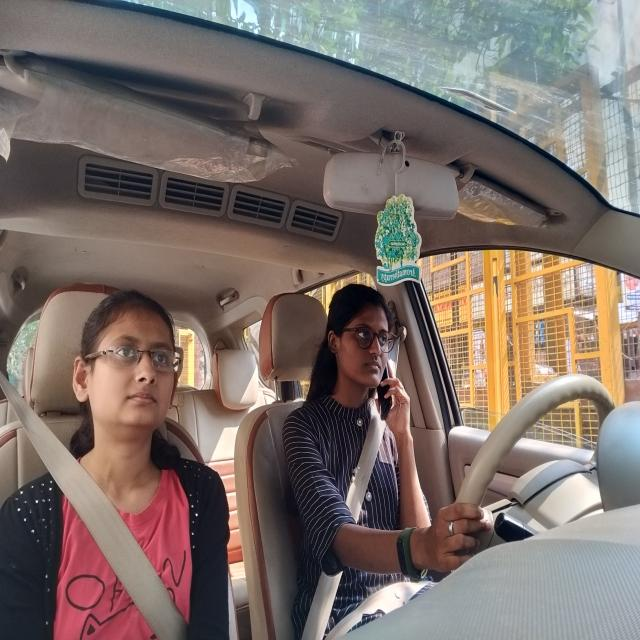mobile: (378, 355, 396, 423)
person: (75, 286, 183, 458), (323, 283, 404, 423)
